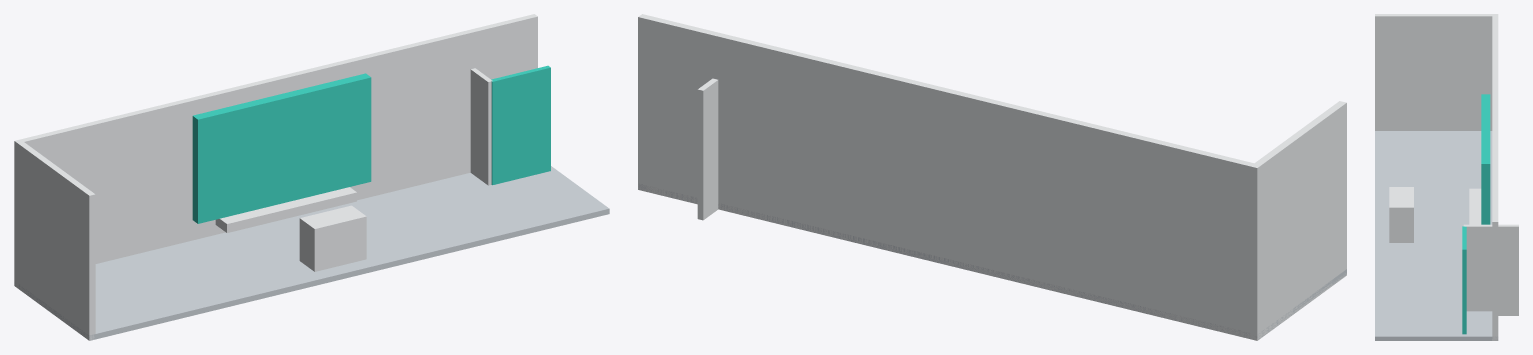
The picture shows the model from 3 angles, left to right: view 1: azimuth 30°, elevation 25°; view 2: azimuth 150°, elevation 25°; view 3: azimuth 270°, elevation 25°; orthographic projection. The views are drawn at different scales.
Parts seen in each view (by area): view 1: Exhibition Booth Concept; view 2: Exhibition Booth Concept; view 3: Exhibition Booth Concept.
Boxes of the visible parts, bbox=[...] form: Exhibition Booth Concept: bbox=[14, 14, 609, 340]; Exhibition Booth Concept: bbox=[638, 14, 1346, 340]; Exhibition Booth Concept: bbox=[1375, 14, 1518, 340].
Size of the model in its own units: 12 by 3.2 by 3.51.
